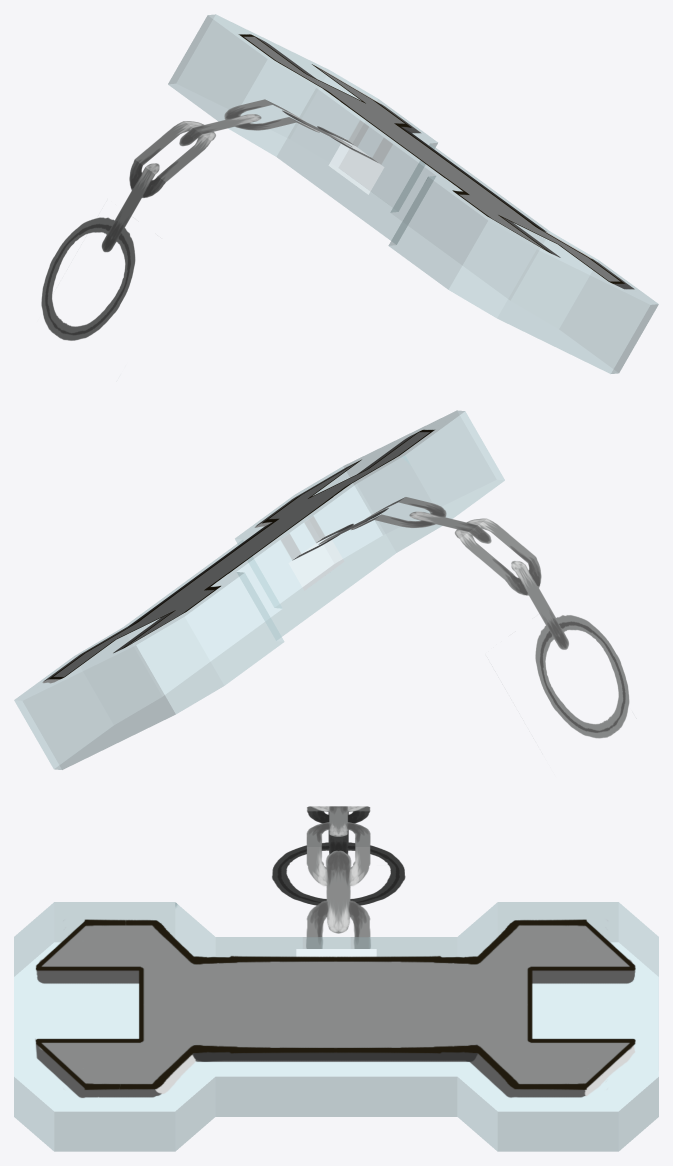
File: keyholder.glb
3 renders of one model, top to bottom at view 1: azimuth 30°, elevation 25°; view 2: azimuth 150°, elevation 25°; view 3: azimuth 270°, elevation 25°, orthographic.
Parts seen in each view (by area): view 1: Cube; view 2: Cube; view 3: Cube.
Boxes of the visible parts, <box> form: Cube: <box>41,14,658,373</box>; Cube: <box>14,410,629,769</box>; Cube: <box>14,806,658,1151</box>.
Size of the model in its own units: 0.6687 by 0.2849 by 0.8.
1 material, 1 textured.
